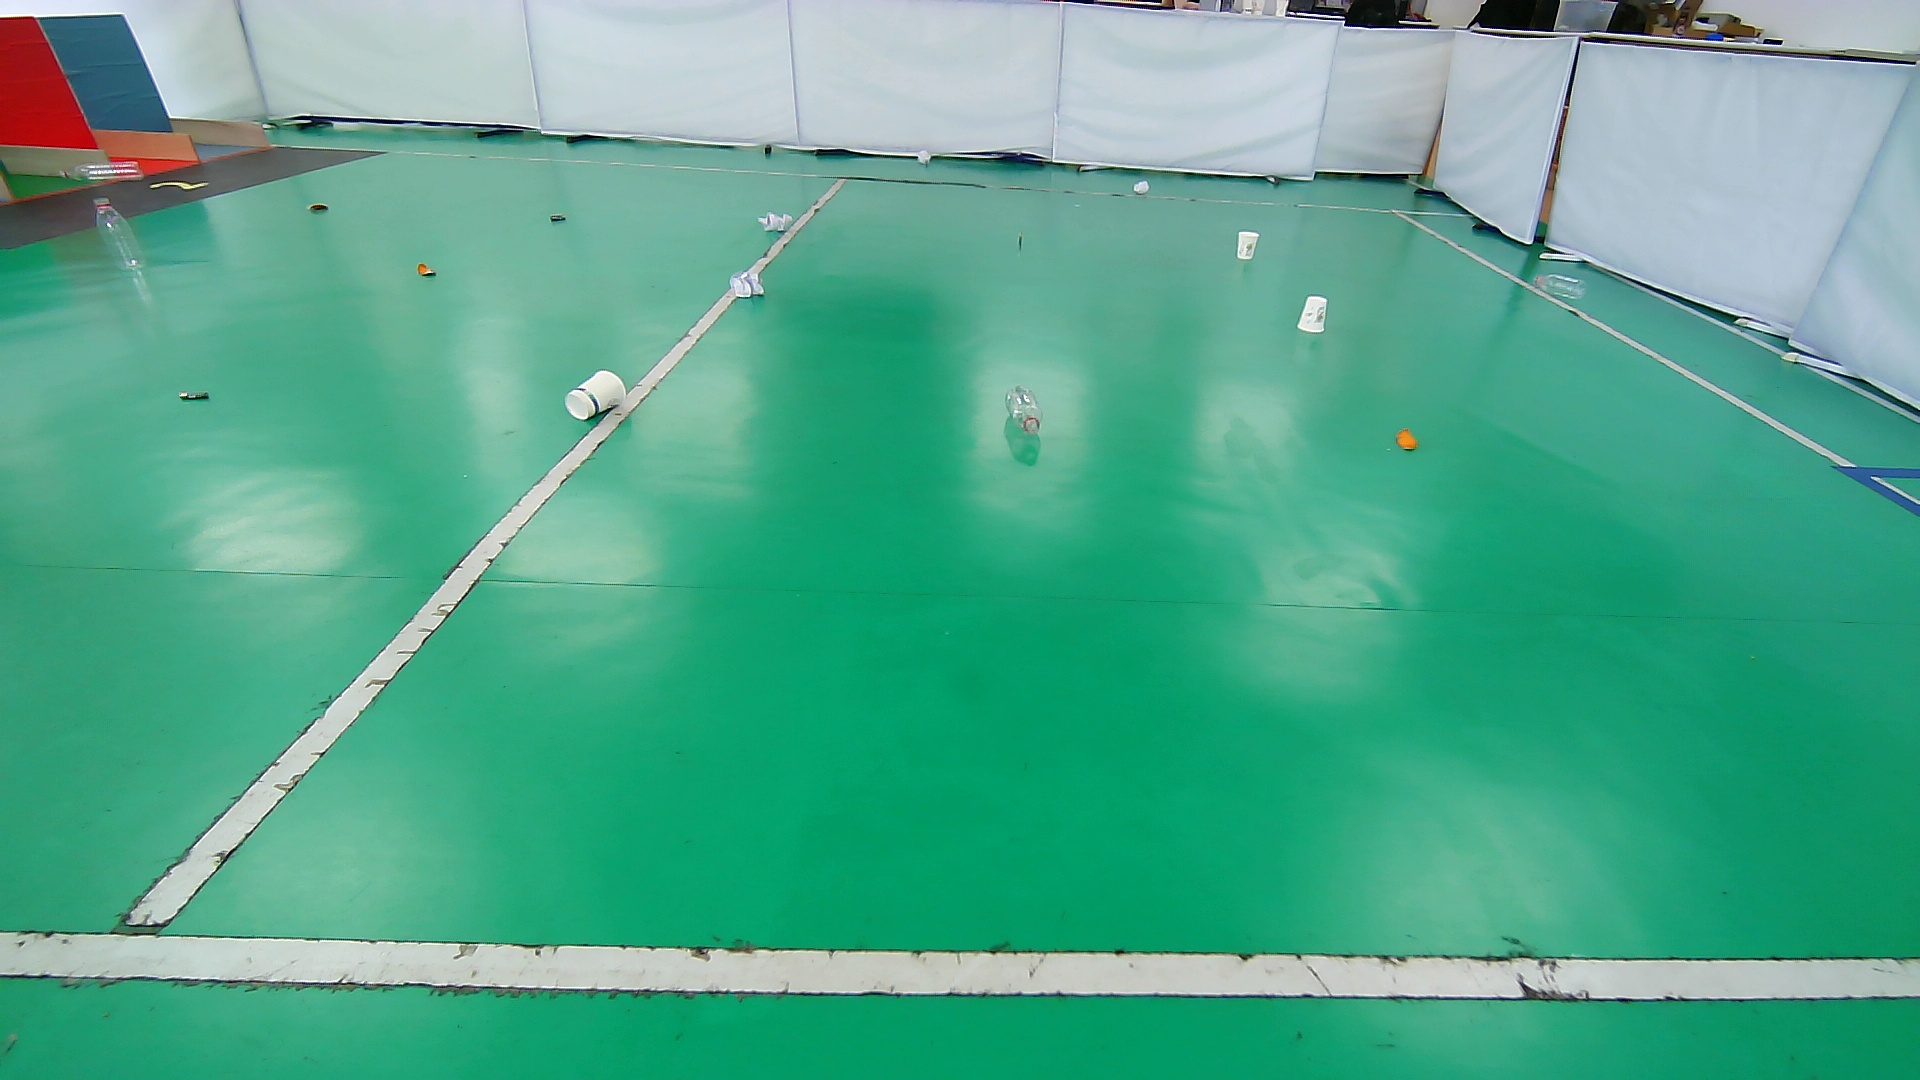battery: (175, 385, 214, 409), (542, 208, 574, 228)
bottle: (92, 195, 156, 277), (1000, 382, 1050, 438), (61, 156, 144, 189), (1534, 270, 1590, 305)
orangepeel: (1391, 425, 1423, 454), (302, 196, 335, 218), (415, 261, 440, 281)
papercup: (560, 365, 626, 419), (1294, 293, 1332, 335), (1232, 225, 1261, 262)
spitball: (725, 266, 770, 301), (756, 208, 800, 237), (1130, 175, 1151, 196)
